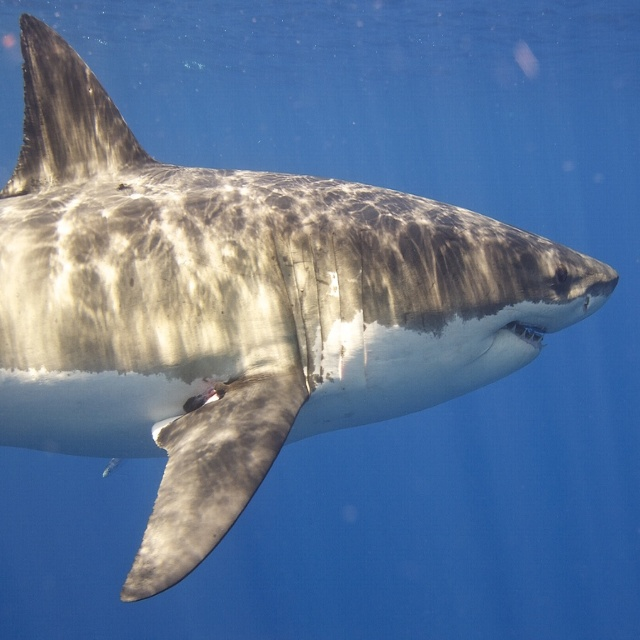Shark: (0, 15, 618, 597)
